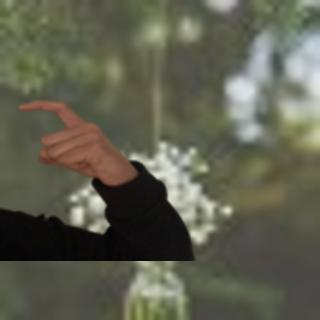WHY: (12, 94, 134, 183)
